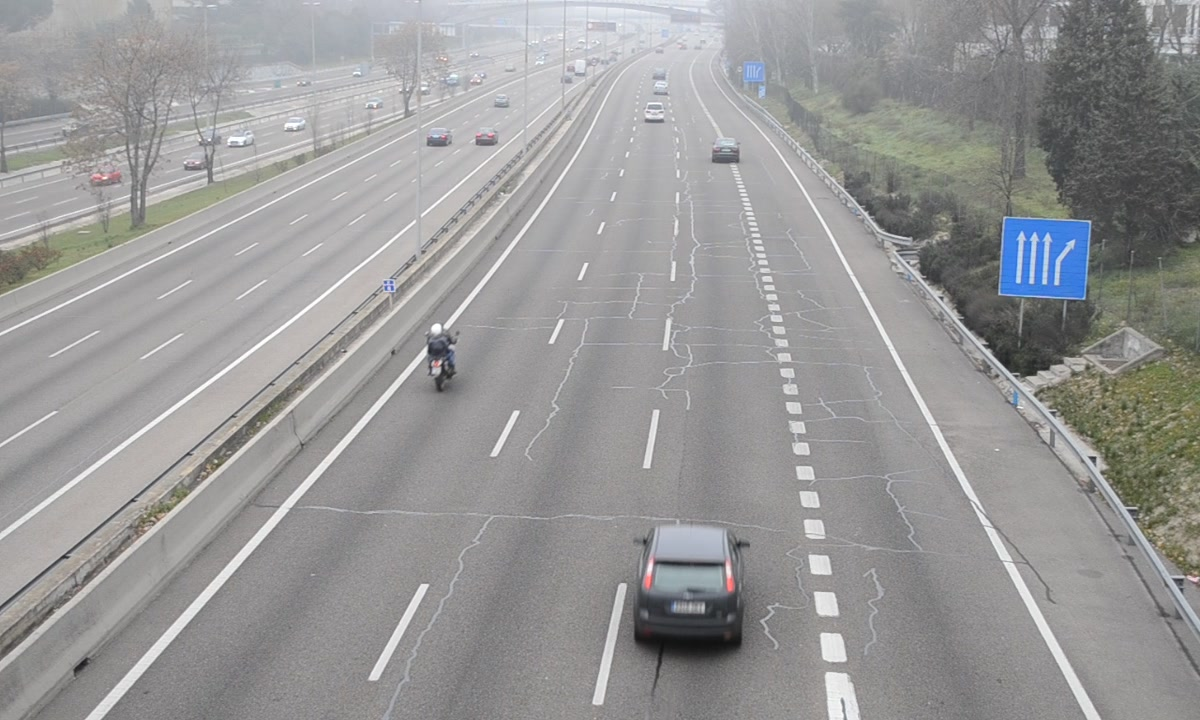car: (631, 528, 745, 648), (711, 138, 739, 163), (644, 102, 666, 124)
motorcycle: (421, 321, 457, 396)
